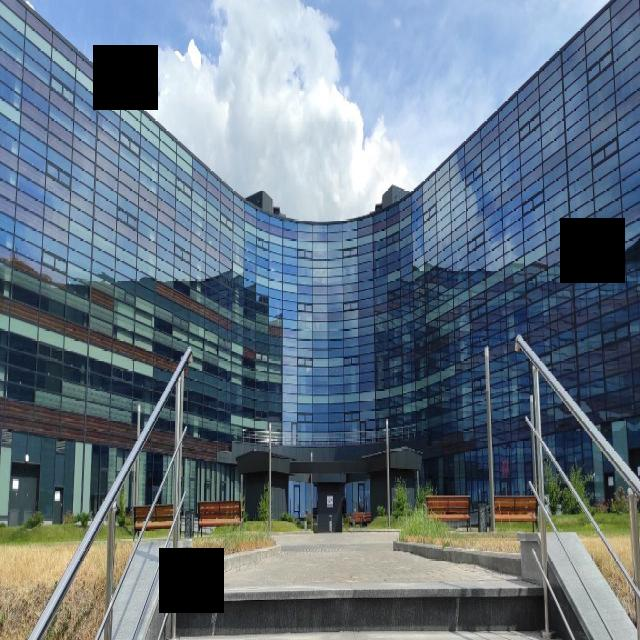Building: (0, 0, 640, 524)
